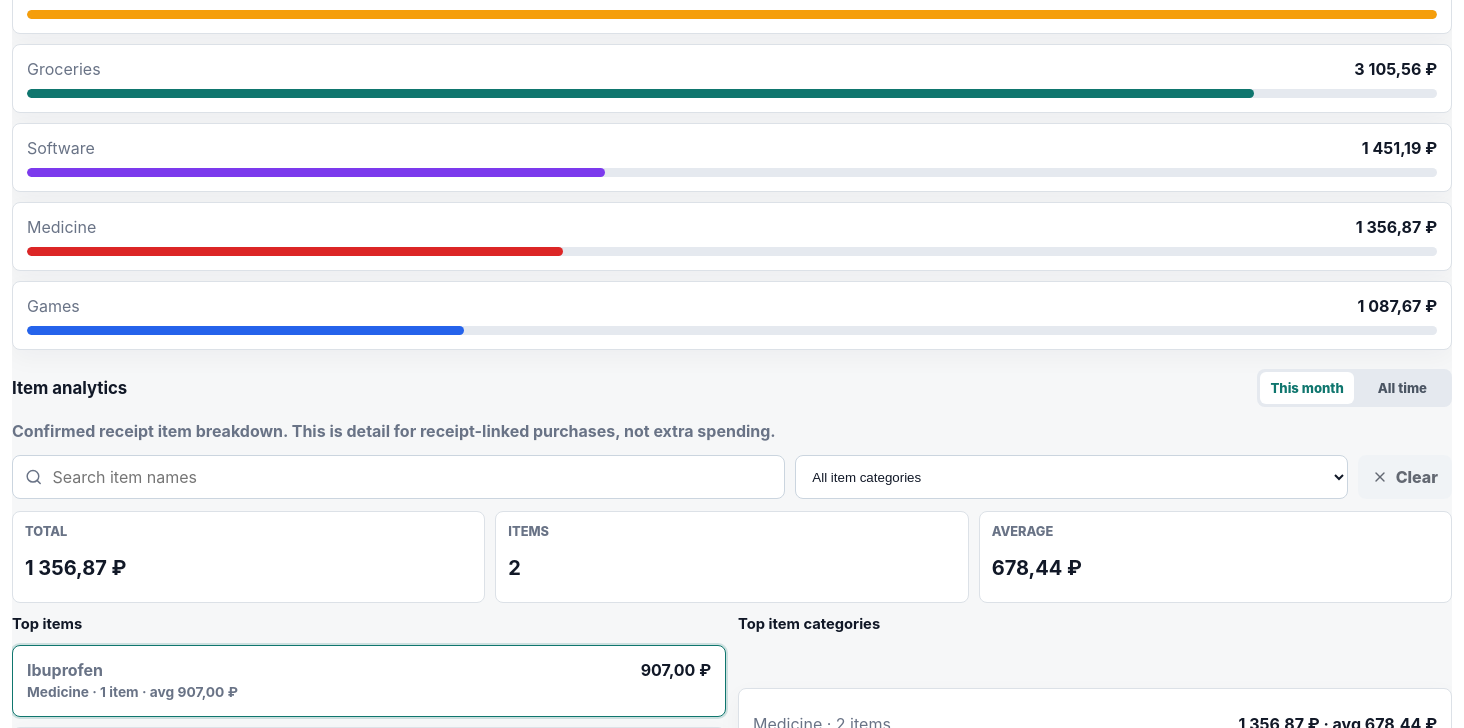
it: DashboardPage › shows confirmed receipt item analytics and switches period filters
(page scrolled)
Expected: the text "Confirmed receipt item breakdown. This is detail for receipt-linked purchases, not extra spending." is shown, [12,421,776,441]
Expected: the text "Protein Bar" is not shown
Click the button "All time".
click(1402, 388)  # box [1356,372,1449,404]
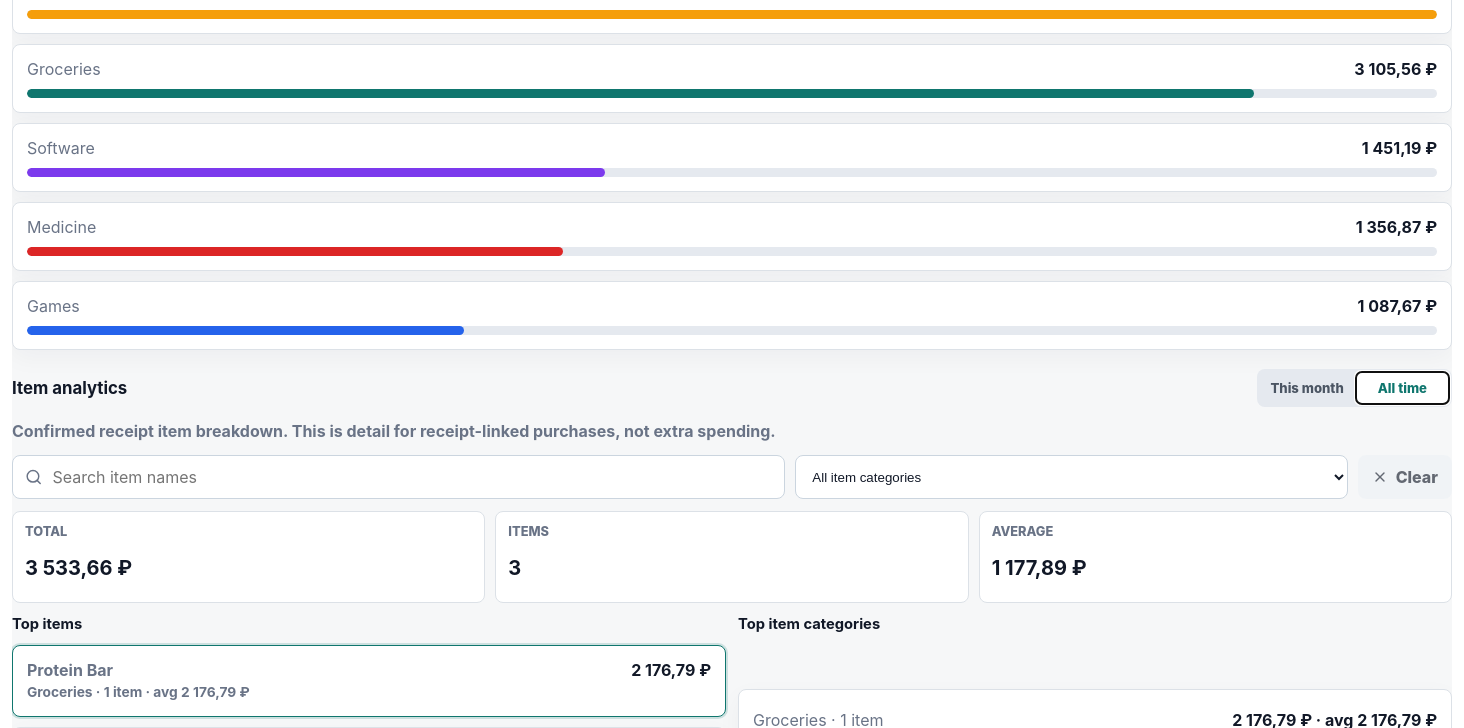
Expected: the text "Protein Bar" is shown, [27,660,113,680]
